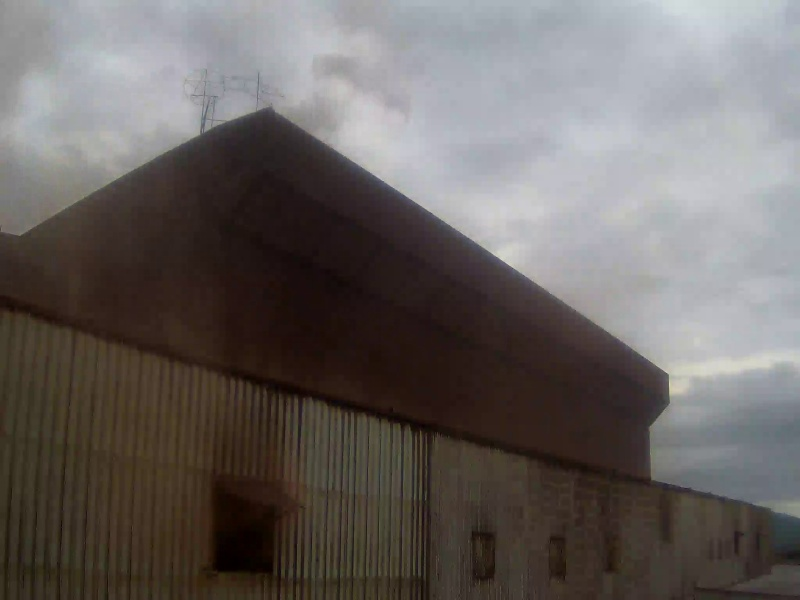bom: (685, 288, 800, 483)
ruim: (255, 4, 678, 476), (2, 4, 375, 265)
